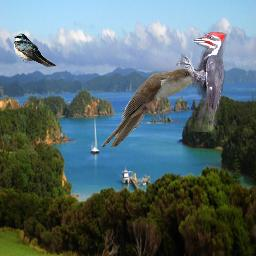Cuckoo: (101, 68, 206, 147)
Swallow: (13, 33, 57, 67)
Woodpecker: (176, 32, 227, 132)
